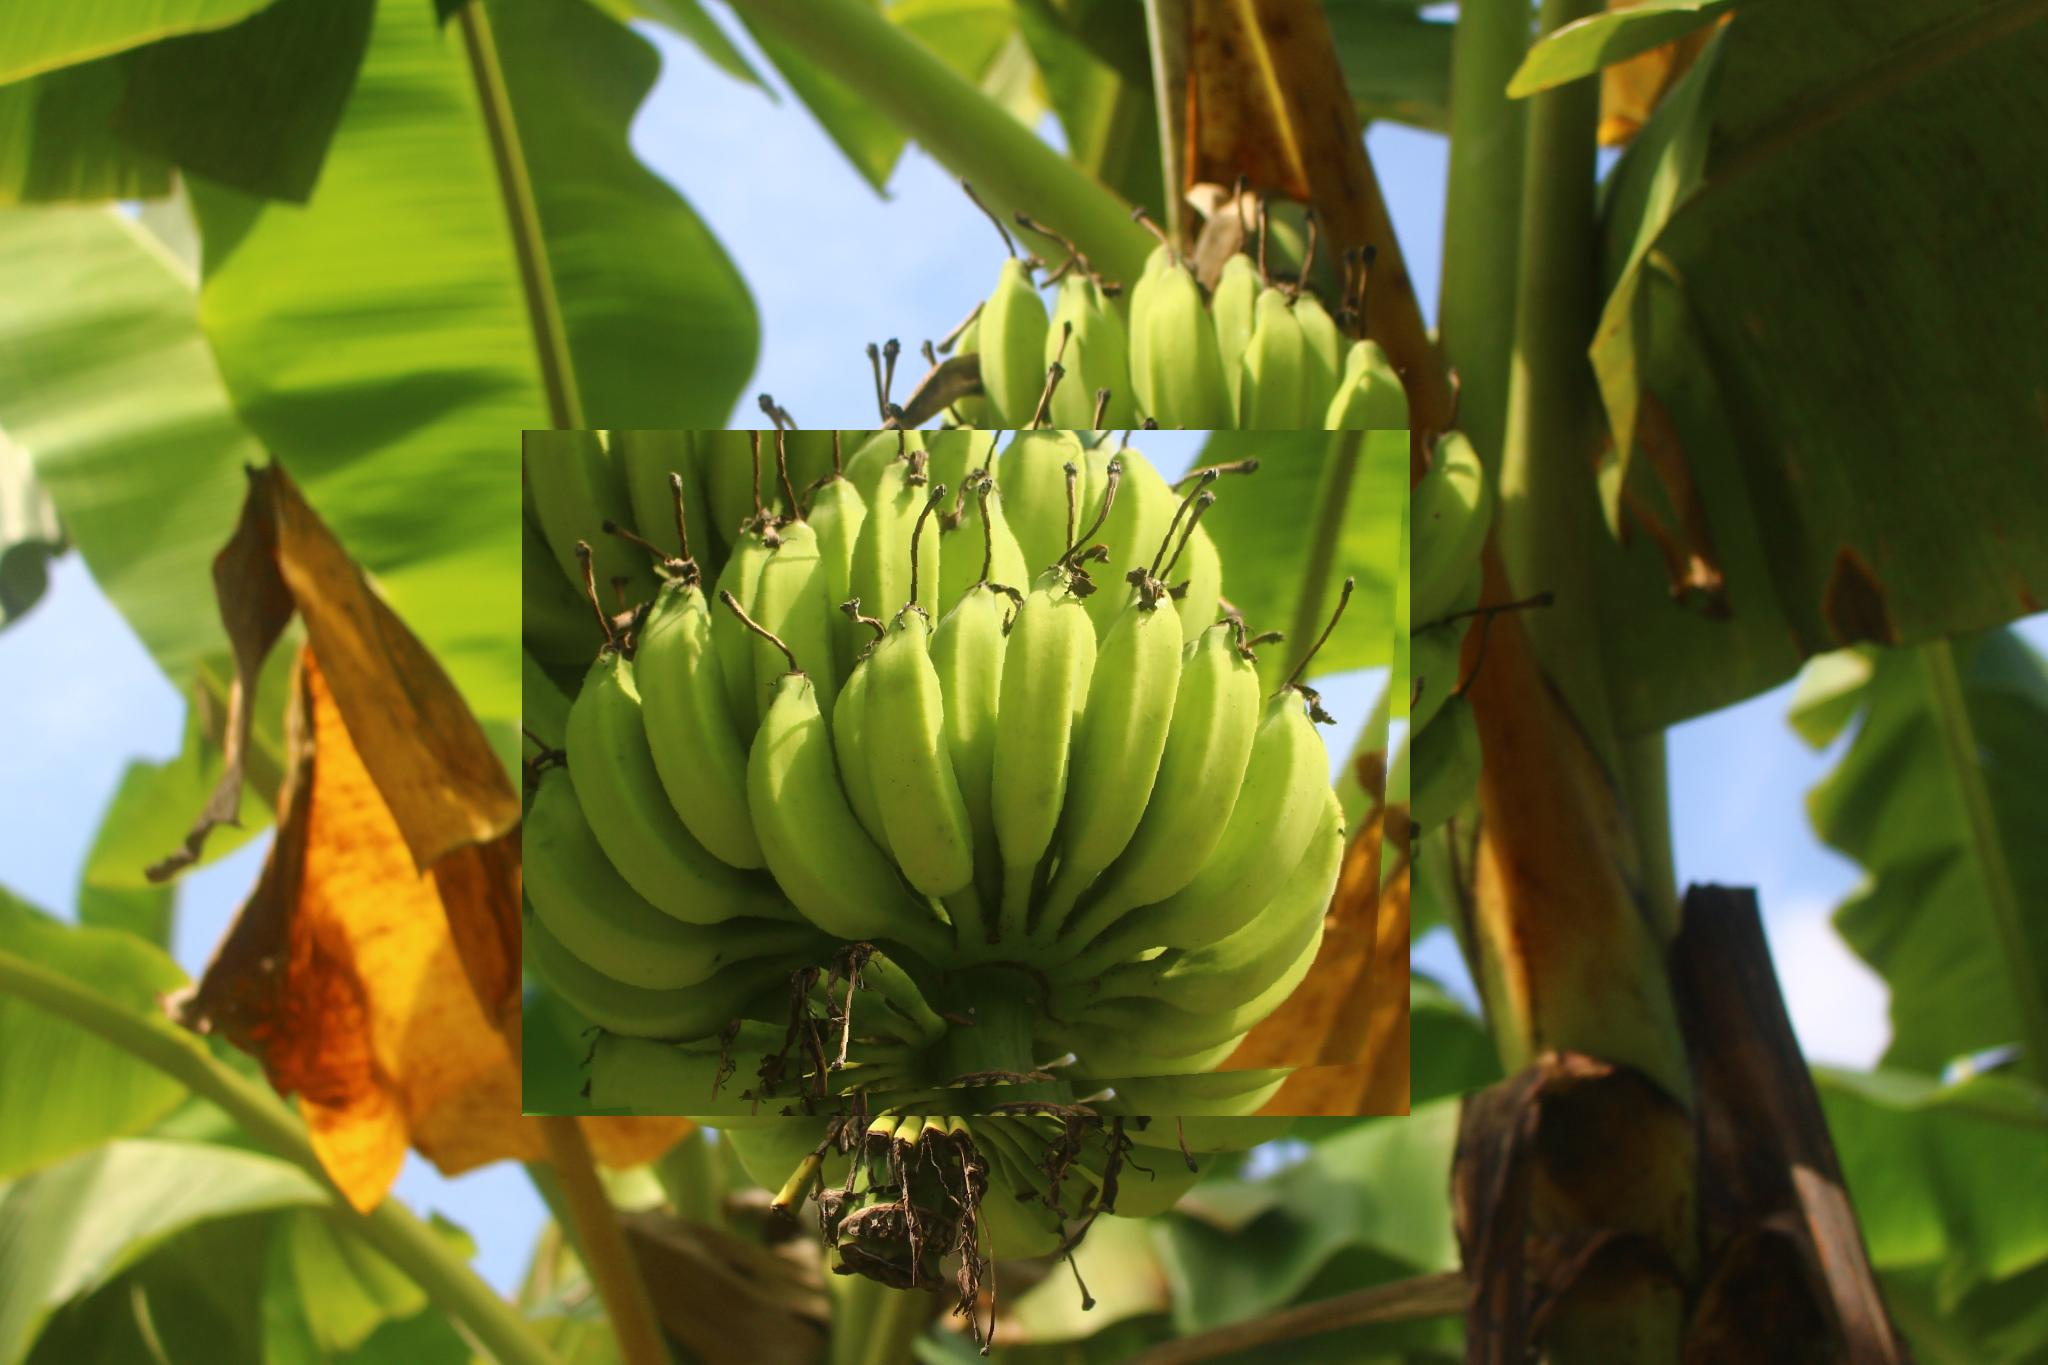Banana Semifresh: (522, 430, 1410, 1117)
